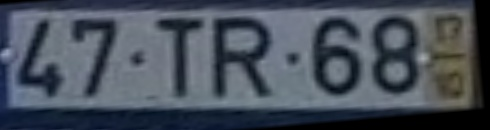4: (13, 18, 68, 102)
6: (310, 13, 367, 100)
7: (69, 16, 124, 103)
8: (367, 12, 426, 99)
R: (211, 16, 279, 103)
T: (153, 16, 209, 102)
